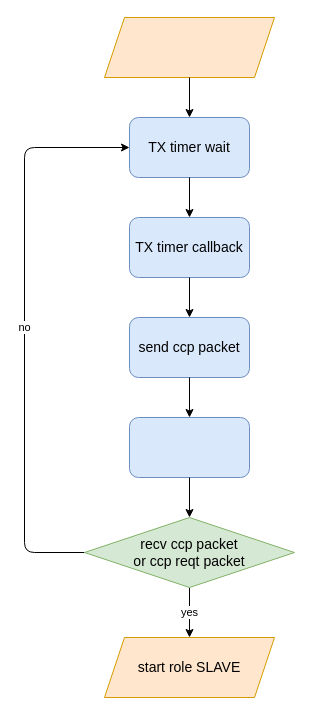
The diagram is 312 pixels wide and 715 high, and some of its shapes have lost their labels. Each missing label, with the box of its shape:
ccp listen: (128, 416, 250, 478)
state CCP_MASTER: (104, 16, 274, 78)
